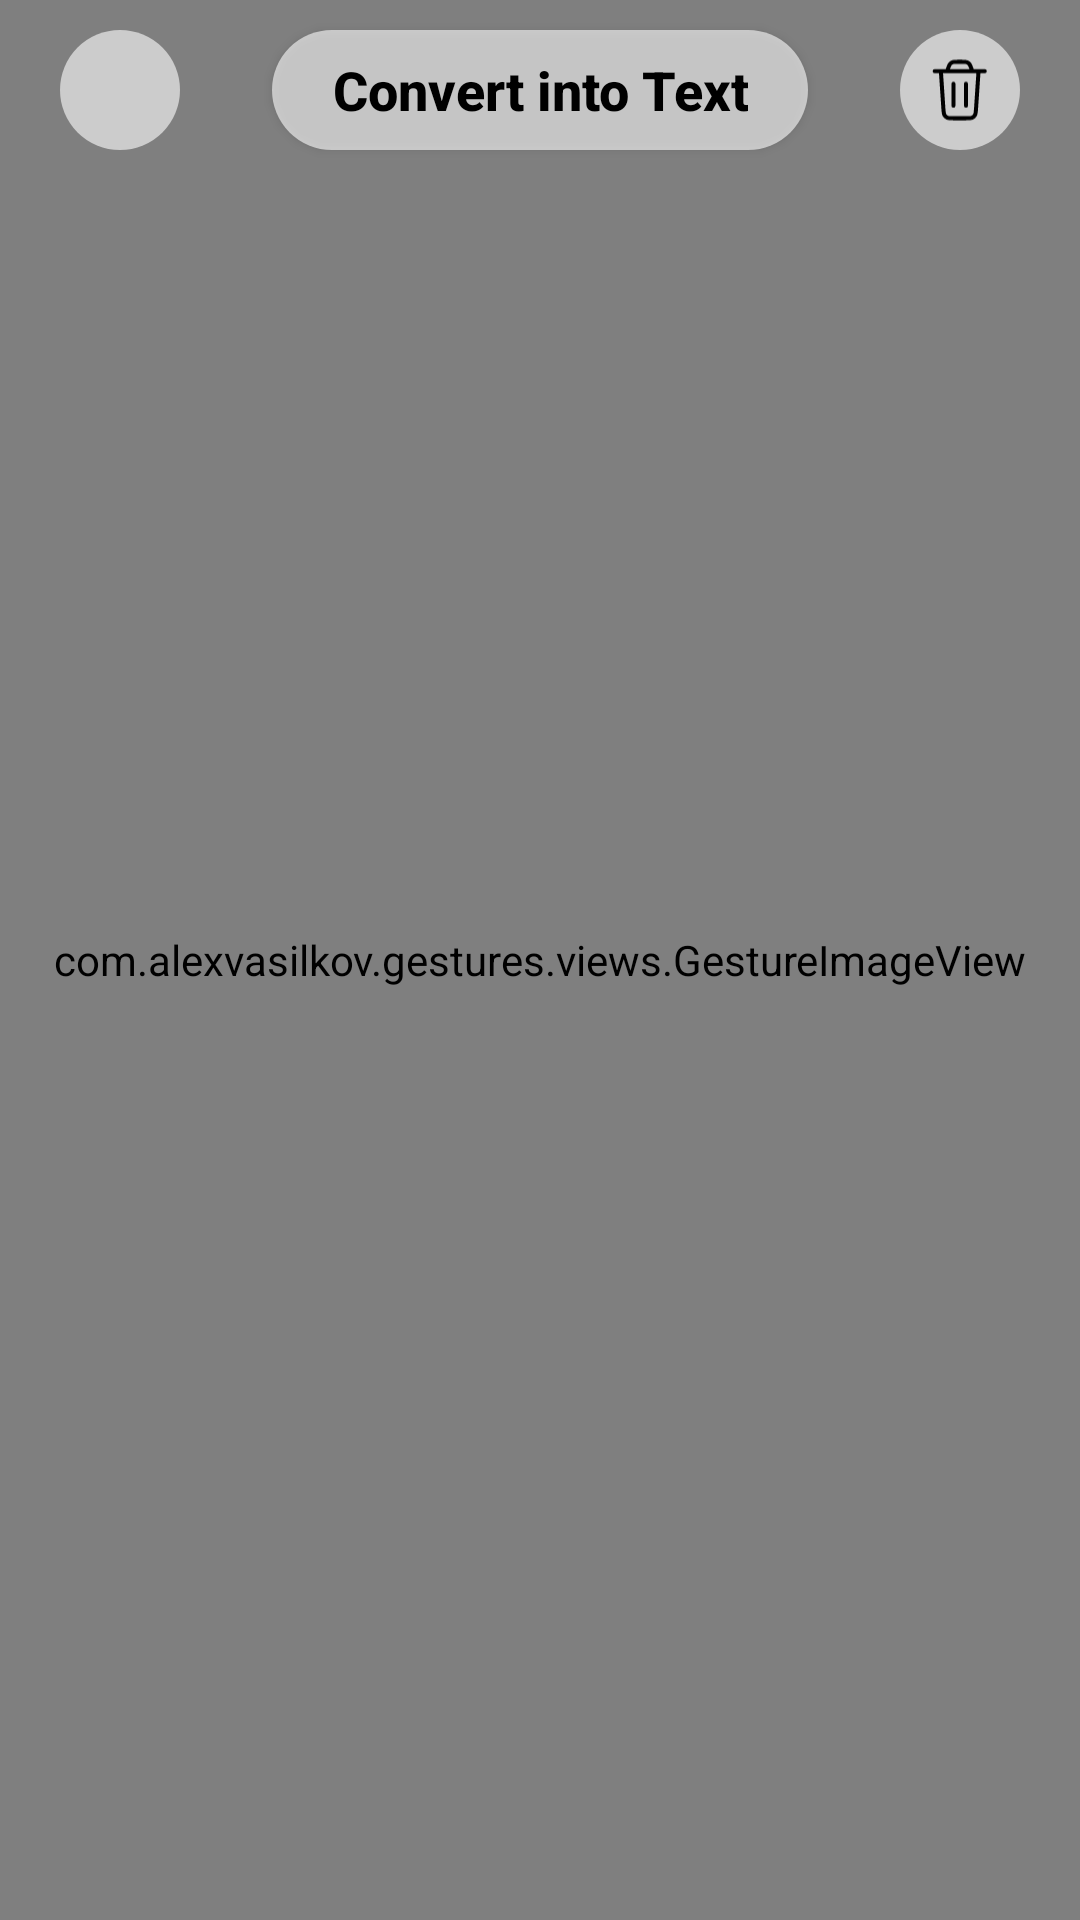

Where to tap for icons on this 1080×1920 app screen, as [x,y]:
delete: [960,90]
